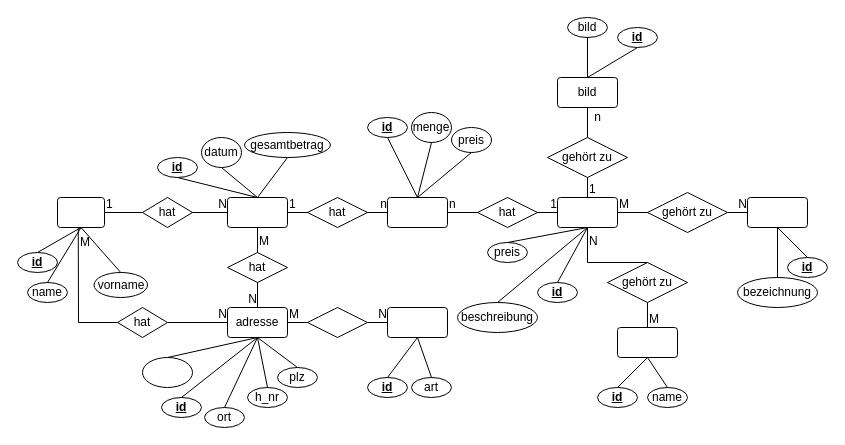
The diagram is 845 pixels wide and 445 high, and some of its shapes have lost their labels. The centre of each missing label's shape, as x and y in pixels:
"adressart" goes at [417,322].
"artikel" goes at [587,212].
"interpret" goes at [647,342].
"ist eine" goes at [337,322].
"kategorie" goes at [777,212].
"kunde" goes at [80,212].
"position" goes at [417,212].
"rechnung" goes at [257,212].
"strasse" goes at [167,372].
